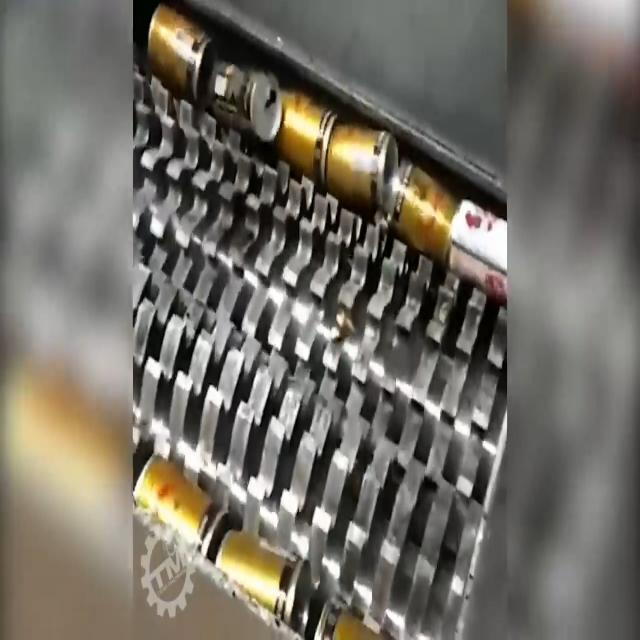Broyeur: (134, 0, 508, 640)
